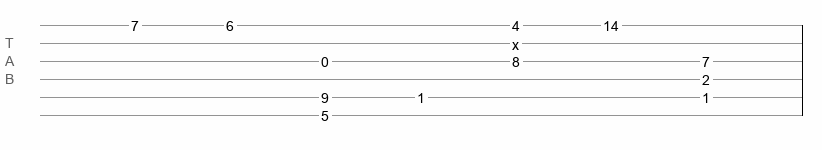0: (321, 54, 329, 64)
1: (417, 90, 425, 100), (702, 90, 710, 100)
14: (603, 18, 619, 28)
2: (702, 72, 710, 82)
4: (512, 18, 520, 28)
5: (321, 108, 329, 118)
6: (226, 18, 234, 28)
7: (131, 18, 139, 28), (702, 54, 710, 64)
8: (512, 54, 520, 64)
9: (321, 90, 329, 100)
x: (512, 37, 519, 45)
